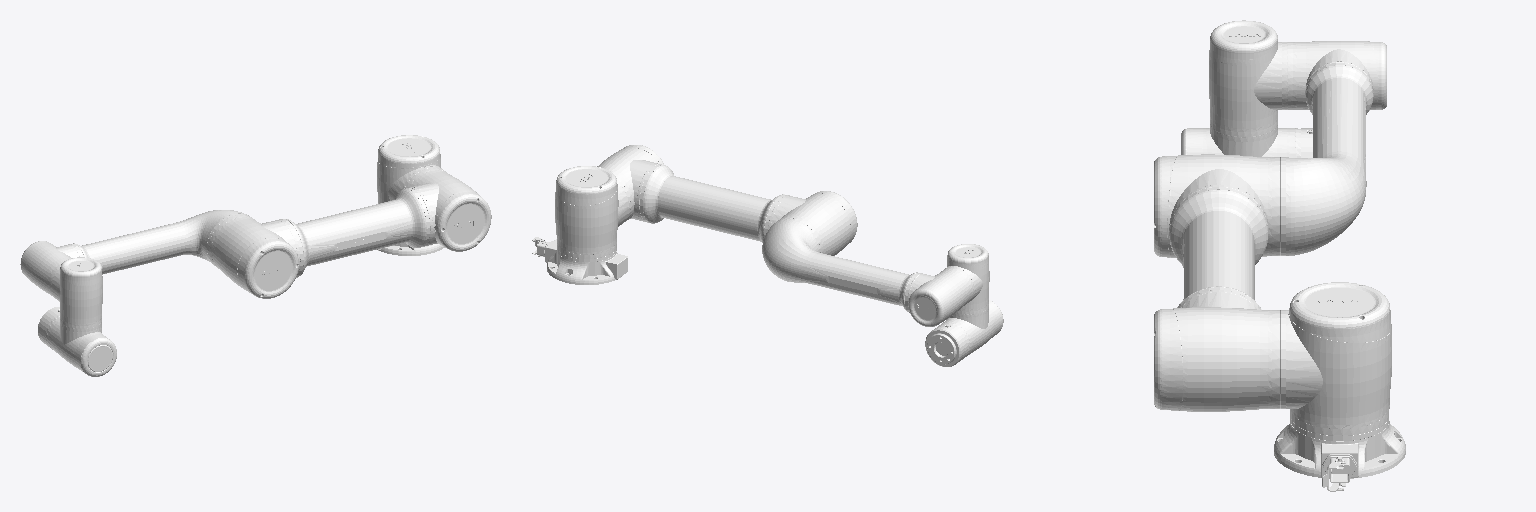
URDF robot description (jaka_zu5):
<?xml version="1.0" encoding="utf-8"?>
<!-- =================================================================================== -->
<!-- |    This document was autogenerated by xacro from jaka_zu5.xacro                 | -->
<!-- |    EDITING THIS FILE BY HAND IS NOT RECOMMENDED                                 | -->
<!-- =================================================================================== -->
<robot name="jaka_zu5">
  <!-- ZU5 -->
  <link name="world"/>
  <joint name="world_joint" type="fixed">
    <parent link="world"/>
    <child link="base_footprint"/>
    <origin rpy="0 0 0" xyz="0 0 0"/>
  </joint>
  <link name="base_footprint">
    <!--
    <xacro:box_inertial_matrix m="200" w ="1" h="0.01" d="1" />
    <visual>
      <origin xyz="0 0 0" rpy="0 0 0" />
      <geometry>
        <box size = "1 1 0.01" />
      </geometry>
      <material name="" />
    </visual>
    <collision>
        <geometry>
          <box size="0 0 0"/>
        </geometry>
        <origin rpy="0 0 0" xyz="0 0 0"/>
      </collision>
-->
  </link>
  <link name="arm_base_link">
    <inertial>
      <origin rpy="0 0 0" xyz="0.00096495 6.33210000011972E-08 0.019553"/>
      <mass value="0.5146"/>
      <inertia ixx="0.00062137" ixy="-1.25310000000002E-08" ixz="3.2162E-06" iyy="0.00086635" iyz="1.01950000029785E-10" izz="0.0013528"/>
    </inertial>
    <visual>
      <origin rpy="1.5707963267949 0 0" xyz="0 0 0"/>
      <geometry>
        <mesh filename="package://jaka_description/meshes/jaka_zu5_meshes/link_0.STL"/>
      </geometry>
      <material name="">
        <color rgba="1 1 1 1"/>
      </material>
    </visual>
    <collision>
      <origin rpy="1.5707963267949 0 0" xyz="0 0 0"/>
      <geometry>
        <mesh filename="package://jaka_description/meshes/jaka_zu5_meshes/link_0.STL"/>
      </geometry>
    </collision>
  </link>
  <joint name="arm_base_joint" type="fixed">
    <origin rpy="0 0 0" xyz="0 0 0"/>
    <parent link="base_footprint"/>
    <child link="arm_base_link"/>
    <axis xyz="0 0 0"/>
  </joint>
  <link name="shoulder_pan_link">
    <inertial>
      <origin rpy="0 0 0" xyz="5.1683E-07 -0.0033223 -0.001511"/>
      <mass value="1.9282"/>
      <inertia ixx="0.0056433" ixy="5.7032E-08" ixz="-6.2225E-08" iyy="0.0054898" iyz="2.0134999999999E-06" izz="0.0038887"/>
    </inertial>
    <visual>
      <origin rpy="1.5707963267949 0 0" xyz="0 0 0"/>
      <geometry>
        <mesh filename="package://jaka_description/meshes/jaka_zu5_meshes/link_1.STL"/>
      </geometry>
      <material name="">
        <color rgba="1 1 1 1"/>
      </material>
    </visual>
    <collision>
      <origin rpy="1.5707963267949 0 0" xyz="0 0 0"/>
      <geometry>
        <mesh filename="package://jaka_description/meshes/jaka_zu5_meshes/link_1.STL"/>
      </geometry>
    </collision>
  </link>
  <joint name="shoulder_pan_joint" type="continuous">
    <origin rpy="0 0 0" xyz="0 0 0.12015"/>
    <parent link="arm_base_link"/>
    <child link="shoulder_pan_link"/>
    <axis xyz="0 0 1"/>
    <limit effort="49" lower="-3" upper="3" velocity="1"/>
  </joint>
  <link name="shoulder_lift_link">
    <inertial>
      <origin rpy="0 0 0" xyz="-0.215 -2.05689999912349E-08 0.14315"/>
      <mass value="5.8409"/>
      <inertia ixx="0.013221" ixy="4.5164E-07" ixz="-4.5411E-08" iyy="0.20339" iyz="-3.02220000002149E-08" izz="0.19988"/>
    </inertial>
    <visual>
      <origin rpy="1.5707963267949 0 0" xyz="0 0 0"/>
      <geometry>
        <mesh filename="package://jaka_description/meshes/jaka_zu5_meshes/link_2.STL"/>
      </geometry>
      <material name="">
        <color rgba="1 1 1 1"/>
      </material>
    </visual>
    <collision>
      <origin rpy="1.5707963267949 0 0" xyz="0 0 0"/>
      <geometry>
        <mesh filename="package://jaka_description/meshes/jaka_zu5_meshes/link_2.STL"/>
      </geometry>
    </collision>
  </link>
  <joint name="shoulder_lift_joint" type="continuous">
    <origin rpy="1.57079 0 0" xyz="0 0 0"/>
    <parent link="shoulder_pan_link"/>
    <child link="shoulder_lift_link"/>
    <axis xyz="0 0 -1"/>
    <limit effort="49" lower="-3" upper="3" velocity="1"/>
  </joint>
  <link name="elbow_link">
    <inertial>
      <origin rpy="0 0 0" xyz="-0.19088 -3.84559999999352E-07 0.010588"/>
      <mass value="2.3018"/>
      <inertia ixx="0.0028116" ixy="2.56400000000176E-07" ixz="-0.0028806" iyy="0.053035" iyz="-6.48900000004372E-09" izz="0.052321"/>
    </inertial>
    <visual>
      <origin rpy="1.5707963267949 0 0" xyz="0 0 0"/>
      <geometry>
        <mesh filename="package://jaka_description/meshes/jaka_zu5_meshes/link_3.STL"/>
      </geometry>
      <material name="">
        <color rgba="1 1 1 1"/>
      </material>
    </visual>
    <collision>
      <origin rpy="1.5707963267949 0 0" xyz="0 0 0"/>
      <geometry>
        <mesh filename="package://jaka_description/meshes/jaka_zu5_meshes/link_3.STL"/>
      </geometry>
    </collision>
  </link>
  <joint name="elbow_joint" type="continuous">
    <origin rpy="0 0 0" xyz="-0.430 0 0"/>
    <parent link="shoulder_lift_link"/>
    <child link="elbow_link"/>
    <axis xyz="0 0 -1"/>
    <limit effort="49" lower="-3" upper="3" velocity="1"/>
  </joint>
  <link name="wrist_1_link">
    <inertial>
      <origin rpy="0 0 0" xyz="4.1023E-07 -0.0057996 -0.0026718"/>
      <mass value="0.70739"/>
      <inertia ixx="0.0011791" ixy="5.5084E-09" ixz="1.4807E-09" iyy="0.00066568" iyz="-1.0639E-05" izz="0.0011425"/>
    </inertial>
    <visual>
      <origin rpy="1.5707963267949 0 0" xyz="0 0 0"/>
      <geometry>
        <mesh filename="package://jaka_description/meshes/jaka_zu5_meshes/link_4.STL"/>
      </geometry>
      <material name="">
        <color rgba="1 1 1 1"/>
      </material>
    </visual>
    <collision>
      <origin rpy="1.5707963267949 0 0" xyz="0 0 0"/>
      <geometry>
        <mesh filename="package://jaka_description/meshes/jaka_zu5_meshes/link_4.STL"/>
      </geometry>
    </collision>
  </link>
  <joint name="wrist_1_joint" type="continuous">
    <origin rpy="0 0 0" xyz="-0.3685 0 0.114"/>
    <parent link="elbow_link"/>
    <child link="wrist_1_link"/>
    <axis xyz="0 0 -1"/>
    <limit effort="11" lower="-3" upper="3" velocity="1"/>
  </joint>
  <link name="wrist_2_link">
    <inertial>
      <origin rpy="0 0 0" xyz="-3.0743E-08 -0.0028896 -0.0023422"/>
      <mass value="0.80693"/>
      <inertia ixx="0.001655" ixy="1.0299E-08" ixz="-1.2235E-08" iyy="0.0007447" iyz="-5.79109999999995E-06" izz="0.0016178"/>
    </inertial>
    <visual>
      <origin rpy="1.5707963267949 0 0" xyz="0 0 0"/>
      <geometry>
        <mesh filename="package://jaka_description/meshes/jaka_zu5_meshes/link_5.STL"/>
      </geometry>
      <material name="">
        <color rgba="1 1 1 1"/>
      </material>
    </visual>
    <collision>
      <origin rpy="1.5707963267949 0 0" xyz="0 0 0"/>
      <geometry>
        <mesh filename="package://jaka_description/meshes/jaka_zu5_meshes/link_5.STL"/>
      </geometry>
    </collision>
  </link>
  <joint name="wrist_2_joint" type="continuous">
    <origin rpy="1.57079 3.1415926 0" xyz="0 -0.1135 0"/>
    <parent link="wrist_1_link"/>
    <child link="wrist_2_link"/>
    <axis xyz="0 0 1"/>
    <limit effort="11" lower="-3" upper="3" velocity="1"/>
  </joint>
  <link name="wrist_3_link">
    <inertial>
      <origin rpy="0 0 0" xyz="-2.7624E-05 1.34819999999987E-05 -0.021245"/>
      <mass value="0.1805"/>
      <inertia ixx="9.1533E-05" ixy="-8.8776E-08" ixz="8.1265E-08" iyy="9.2197E-05" iyz="1.05880000000003E-07" izz="0.00014442"/>
    </inertial>
    <visual>
      <origin rpy="1.5707963267949 0 0" xyz="0 0 0"/>
      <geometry>
        <mesh filename="package://jaka_description/meshes/jaka_zu5_meshes/link_6.STL"/>
      </geometry>
      <material name="">
        <color rgba="1 1 1 1"/>
      </material>
    </visual>
    <collision>
      <origin rpy="1.5707963267949 0 0" xyz="0 0 0"/>
      <geometry>
        <mesh filename="package://jaka_description/meshes/jaka_zu5_meshes/link_6.STL"/>
      </geometry>
    </collision>
  </link>
  <joint name="wrist_3_joint" type="continuous">
    <origin rpy="-1.57079 0 0" xyz="0 0.107 0"/>
    <parent link="wrist_2_link"/>
    <child link="wrist_3_link"/>
    <axis xyz="0 0 1"/>
    <limit effort="11" lower="-3" upper="3" velocity="1"/>
  </joint>
  <transmission name="shoulder_pan_joint_trans">
    <type>transmission_interface/SimpleTransmission</type>
    <joint name="shoulder_pan_joint">
      <hardwareInterface>hardware_interface/PositionJointInterface</hardwareInterface>
    </joint>
    <actuator name="shoulder_pan_joint_motor">
      <hardwareInterface>hardware_interface/PositionJointInterface</hardwareInterface>
      <mechanicalReduction>1</mechanicalReduction>
    </actuator>
  </transmission>
  <transmission name="shoulder_lift_joint_trans">
    <type>transmission_interface/SimpleTransmission</type>
    <joint name="shoulder_lift_joint">
      <hardwareInterface>hardware_interface/PositionJointInterface</hardwareInterface>
    </joint>
    <actuator name="shoulder_lift_joint_motor">
      <hardwareInterface>hardware_interface/PositionJointInterface</hardwareInterface>
      <mechanicalReduction>1</mechanicalReduction>
    </actuator>
  </transmission>
  <transmission name="elbow_joint_trans">
    <type>transmission_interface/SimpleTransmission</type>
    <joint name="elbow_joint">
      <hardwareInterface>hardware_interface/PositionJointInterface</hardwareInterface>
    </joint>
    <actuator name="elbow_joint_motor">
      <hardwareInterface>hardware_interface/PositionJointInterface</hardwareInterface>
      <mechanicalReduction>1</mechanicalReduction>
    </actuator>
  </transmission>
  <transmission name="wrist_1_joint_trans">
    <type>transmission_interface/SimpleTransmission</type>
    <joint name="wrist_1_joint">
      <hardwareInterface>hardware_interface/PositionJointInterface</hardwareInterface>
    </joint>
    <actuator name="wrist_1_joint_motor">
      <hardwareInterface>hardware_interface/PositionJointInterface</hardwareInterface>
      <mechanicalReduction>1</mechanicalReduction>
    </actuator>
  </transmission>
  <transmission name="wrist_2_joint_trans">
    <type>transmission_interface/SimpleTransmission</type>
    <joint name="wrist_2_joint">
      <hardwareInterface>hardware_interface/PositionJointInterface</hardwareInterface>
    </joint>
    <actuator name="wrist_2_joint_motor">
      <hardwareInterface>hardware_interface/PositionJointInterface</hardwareInterface>
      <mechanicalReduction>1</mechanicalReduction>
    </actuator>
  </transmission>
  <transmission name="wrist_3_joint_trans">
    <type>transmission_interface/SimpleTransmission</type>
    <joint name="wrist_3_joint">
      <hardwareInterface>hardware_interface/PositionJointInterface</hardwareInterface>
    </joint>
    <actuator name="wrist_3_joint_motor">
      <hardwareInterface>hardware_interface/PositionJointInterface</hardwareInterface>
      <mechanicalReduction>1</mechanicalReduction>
    </actuator>
  </transmission>
  <!-- ros_control plugin -->
  <gazebo>
    <plugin filename="libgazebo_ros_control.so" name="gazebo_ros_control">
      <robotNamespace>/jaka_zu5</robotNamespace>
      <robotSimType>gazebo_ros_control/DefaultRobotHWSim</robotSimType>
      <legacyModeNS>true</legacyModeNS>
    </plugin>
  </gazebo>
</robot>

--- Facts derived from the render (not from the file) ---
The picture shows the robot from 3 angles, left to right: view 1: azimuth 30°, elevation 25°; view 2: azimuth 150°, elevation 25°; view 3: azimuth 270°, elevation 25°; orthographic projection.
Robot: jaka_zu5 — 9 links, 8 joints (6 continuous, 2 fixed); root link world; default pose: all joints at 0.
Links seen in each view (by area): view 1: shoulder_lift_link, elbow_link, wrist_1_link, shoulder_pan_link, wrist_2_link, arm_base_link; view 2: shoulder_lift_link, elbow_link, shoulder_pan_link, arm_base_link, wrist_1_link, wrist_3_link, wrist_2_link; view 3: shoulder_lift_link, elbow_link, shoulder_pan_link, wrist_1_link, arm_base_link, wrist_2_link.
Link boxes in pixels (x1,y1,x2,y2): shoulder_lift_link: (207,167,491,298); elbow_link: (20,210,248,298); wrist_1_link: (51,257,102,331); shoulder_pan_link: (377,135,441,203); wrist_2_link: (45,314,116,376); arm_base_link: (377,243,444,255); shoulder_lift_link: (597,145,857,255); elbow_link: (762,219,973,326); shoulder_pan_link: (555,166,628,261); arm_base_link: (532,237,627,284); wrist_1_link: (945,244,989,317); wrist_3_link: (925,323,968,366); wrist_2_link: (942,300,1003,356); shoulder_lift_link: (1154,154,1285,411); elbow_link: (1282,41,1386,255); shoulder_pan_link: (1286,282,1391,440); wrist_1_link: (1209,20,1281,141); arm_base_link: (1274,421,1405,491); wrist_2_link: (1181,128,1300,157).
Size in the robot's own frame: 0.9703 by 0.3007 by 0.2332 metres.
7 mesh visuals loaded from 7 distinct referenced files (7 binary STL).
